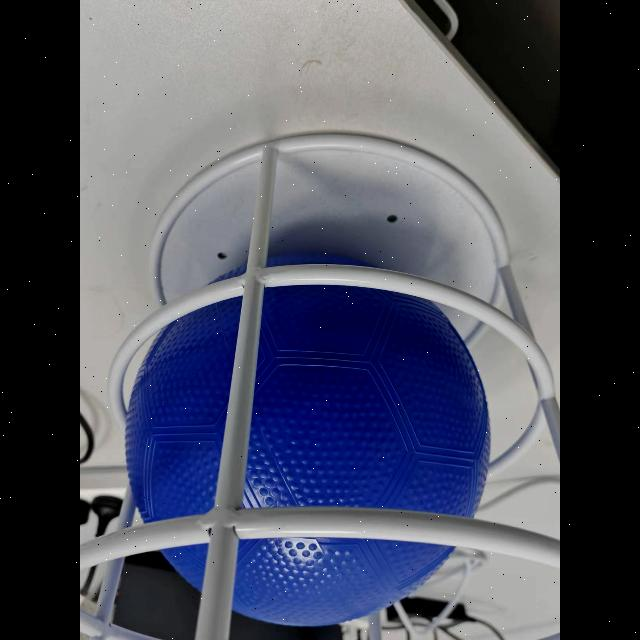B: (117, 246, 495, 638)
S: (80, 130, 560, 640)
